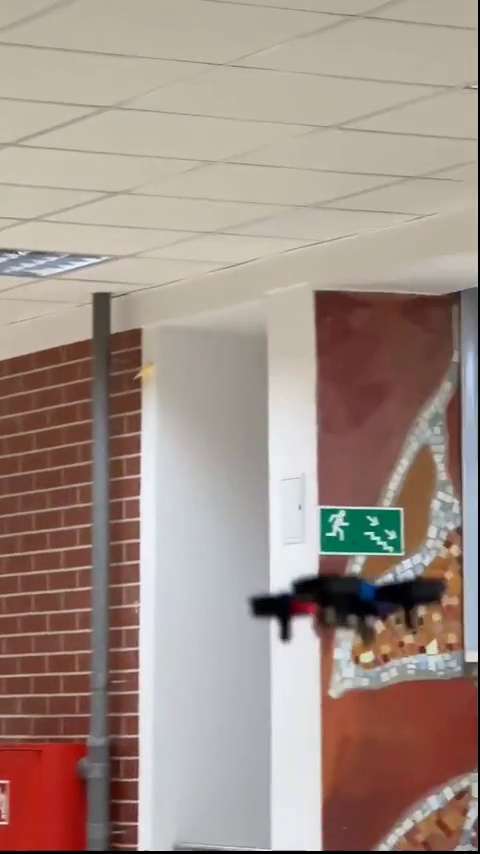drone: (251, 574, 444, 634)
